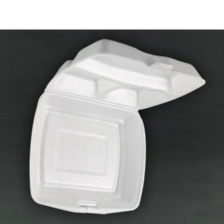foam_box: (21, 33, 210, 220)
